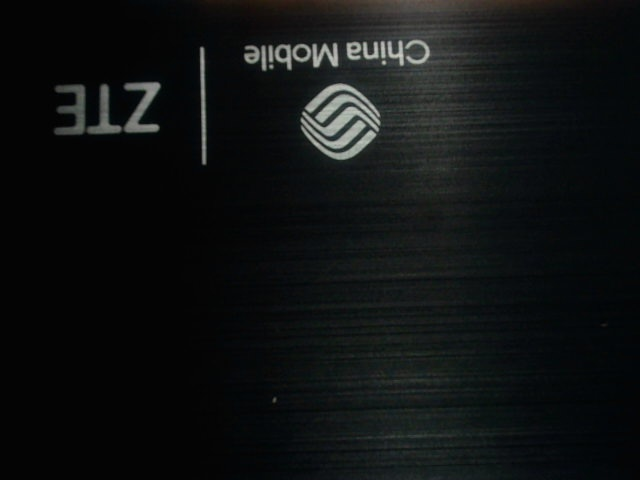AL_ZTEChinaMobile: (39, 23, 442, 177)
